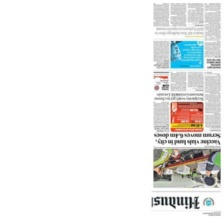news_paper: (148, 1, 223, 220)
